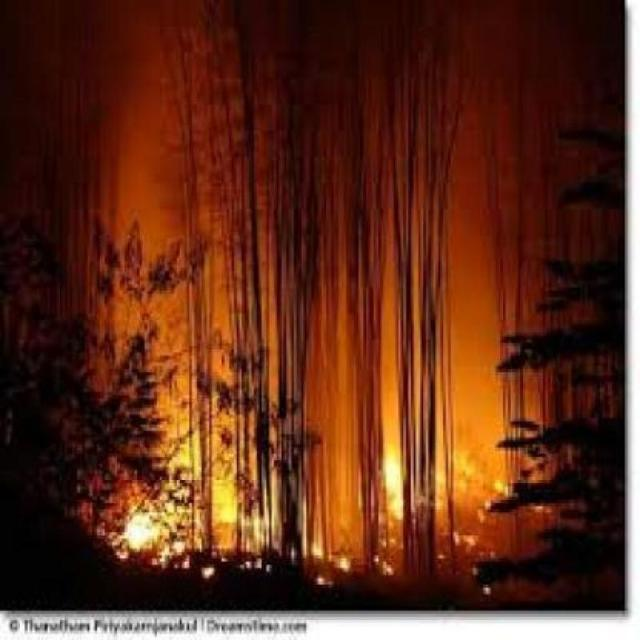Fire: (0, 324, 640, 572)
